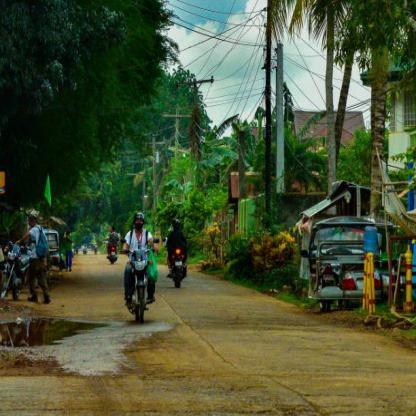Motorcycle: (111, 241, 164, 324)
